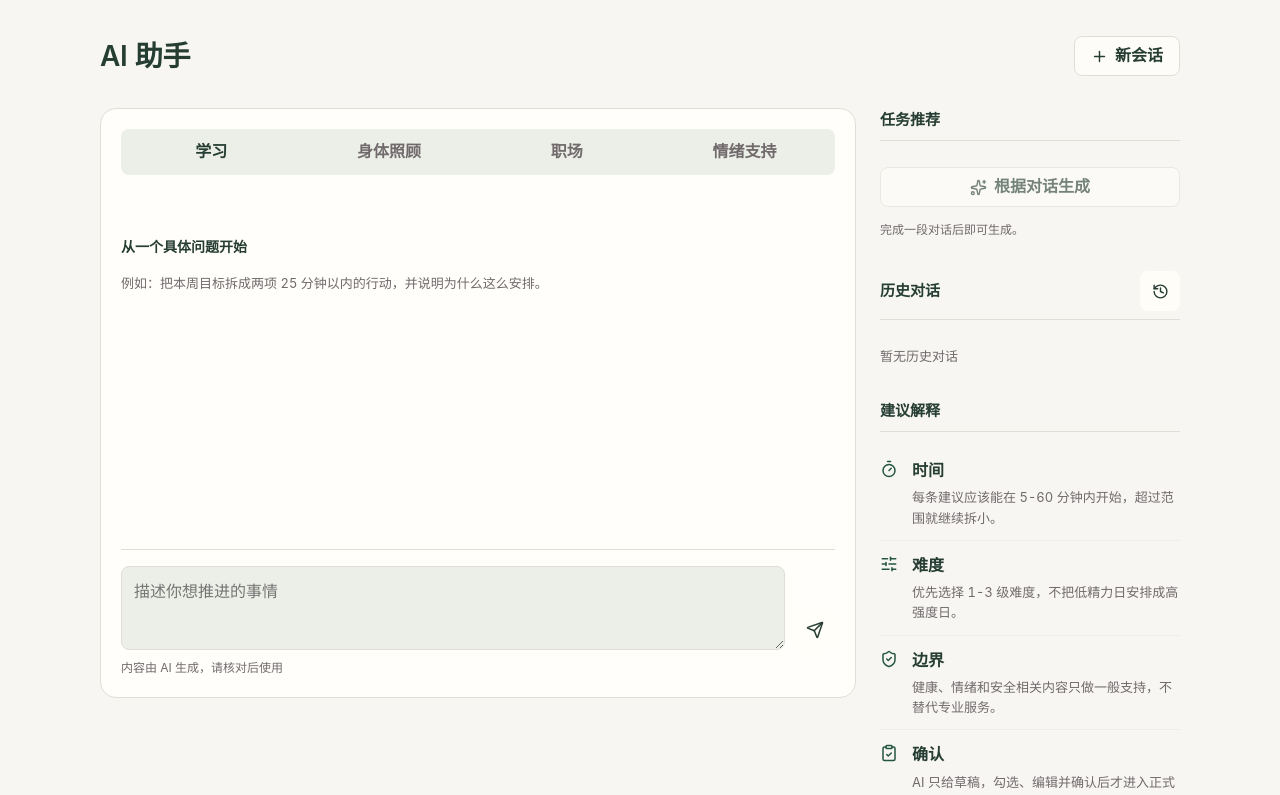
Test case: AI safety UI › shows the provider error returned by the real AI adapter
Type "帮我拆解目标" into the text box with placeholder "描述你想推进的事情" at (453, 608), box [121,566,785,650]
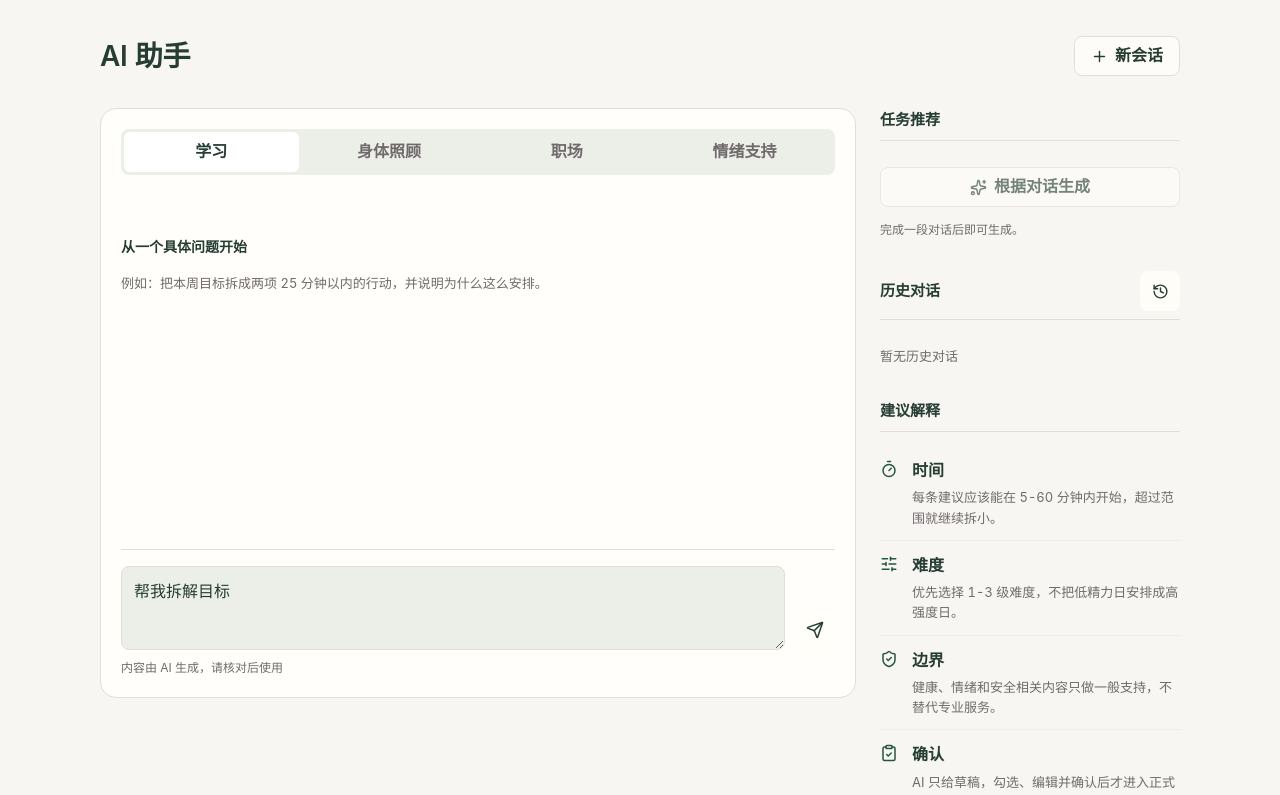
Submit the form, box [121,549,835,650]
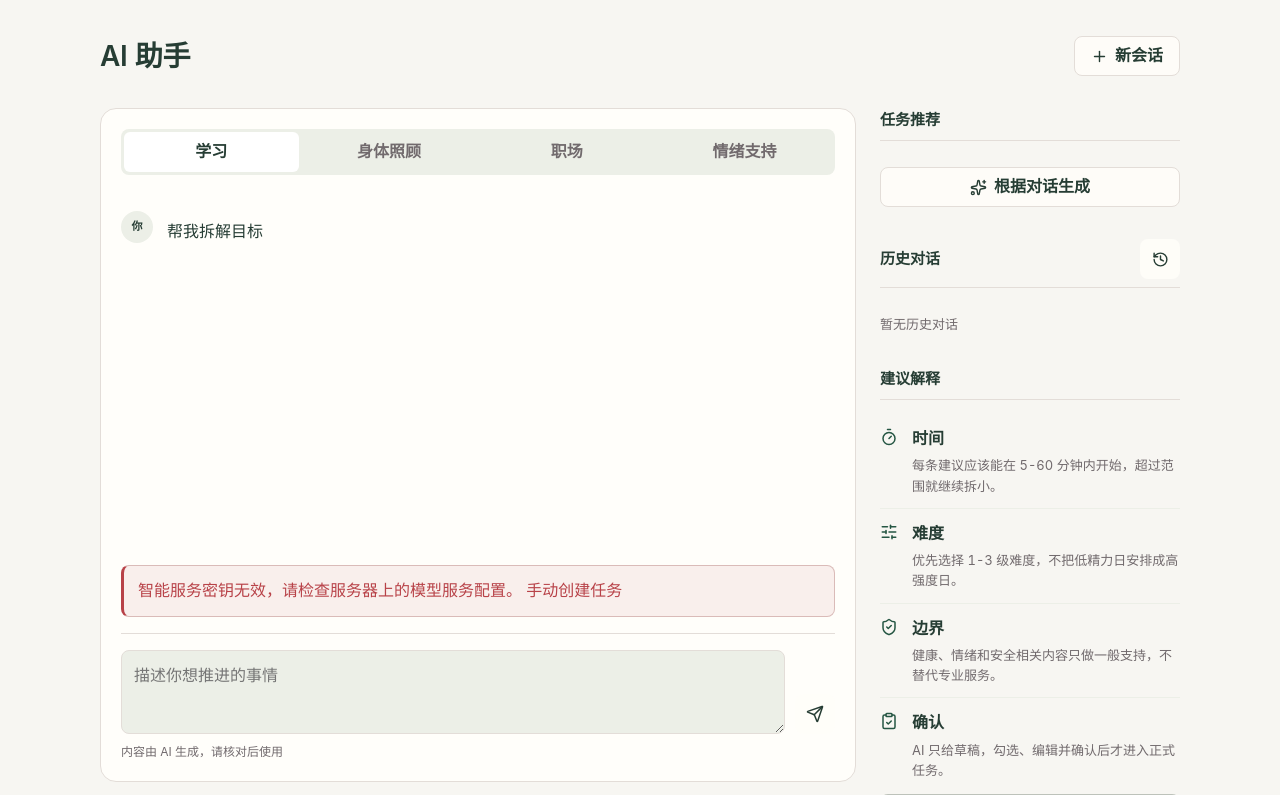
Check: the element with class "error" shows "智能服务密钥无效", box [138,580,526,600]
